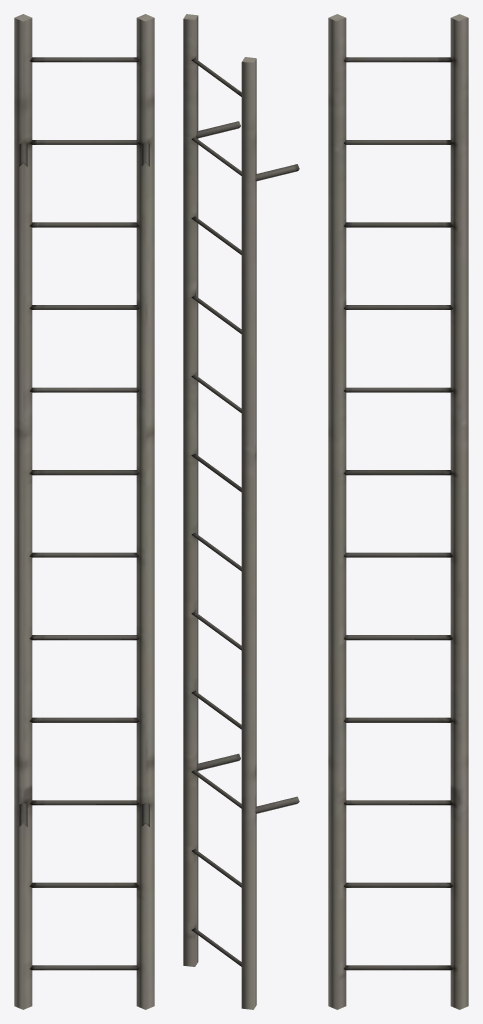
3 renders of one model, left to right at view 1: azimuth 90°, elevation 25°; view 2: azimuth 210°, elevation 25°; view 3: azimuth 270°, elevation 25°, orthographic. The views are drawn at different scales.
Visible parts, largest first — view 1: body0_model0_lod0_mesh0; view 2: body0_model0_lod0_mesh0; view 3: body0_model0_lod0_mesh0.
Part boxes in pixels (<box>): body0_model0_lod0_mesh0: <box>14,14,154,1009</box>; body0_model0_lod0_mesh0: <box>183,14,299,1009</box>; body0_model0_lod0_mesh0: <box>328,14,468,1009</box>.
Bounding box in the file's own units: 11.86 × 192 × 24.72.
1 material, 1 textured.
